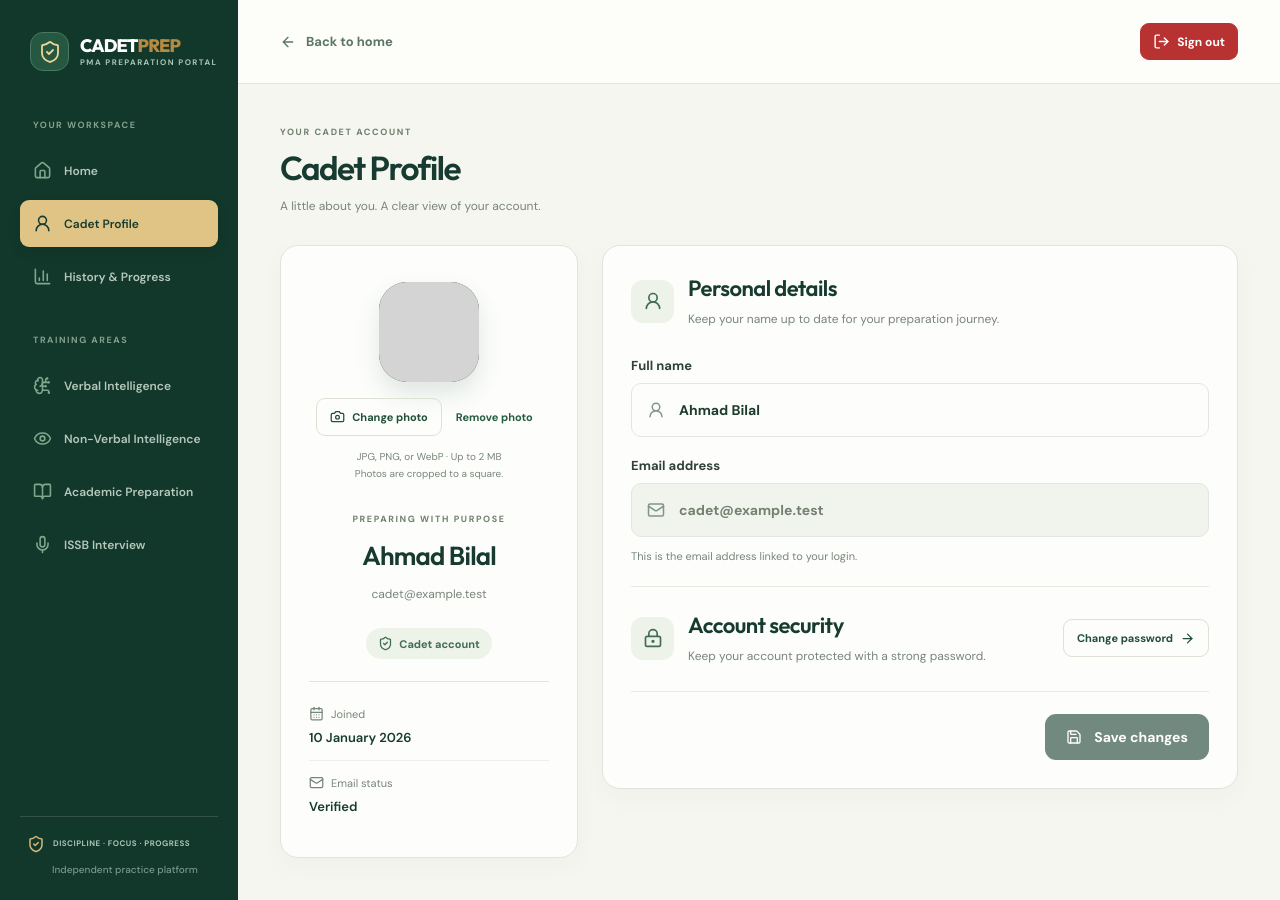
removing a photo restores the initials avatar
The image size is (1280, 900).
Click the button "Remove photo": (494, 417) x1=447 y1=401 x2=542 y2=433
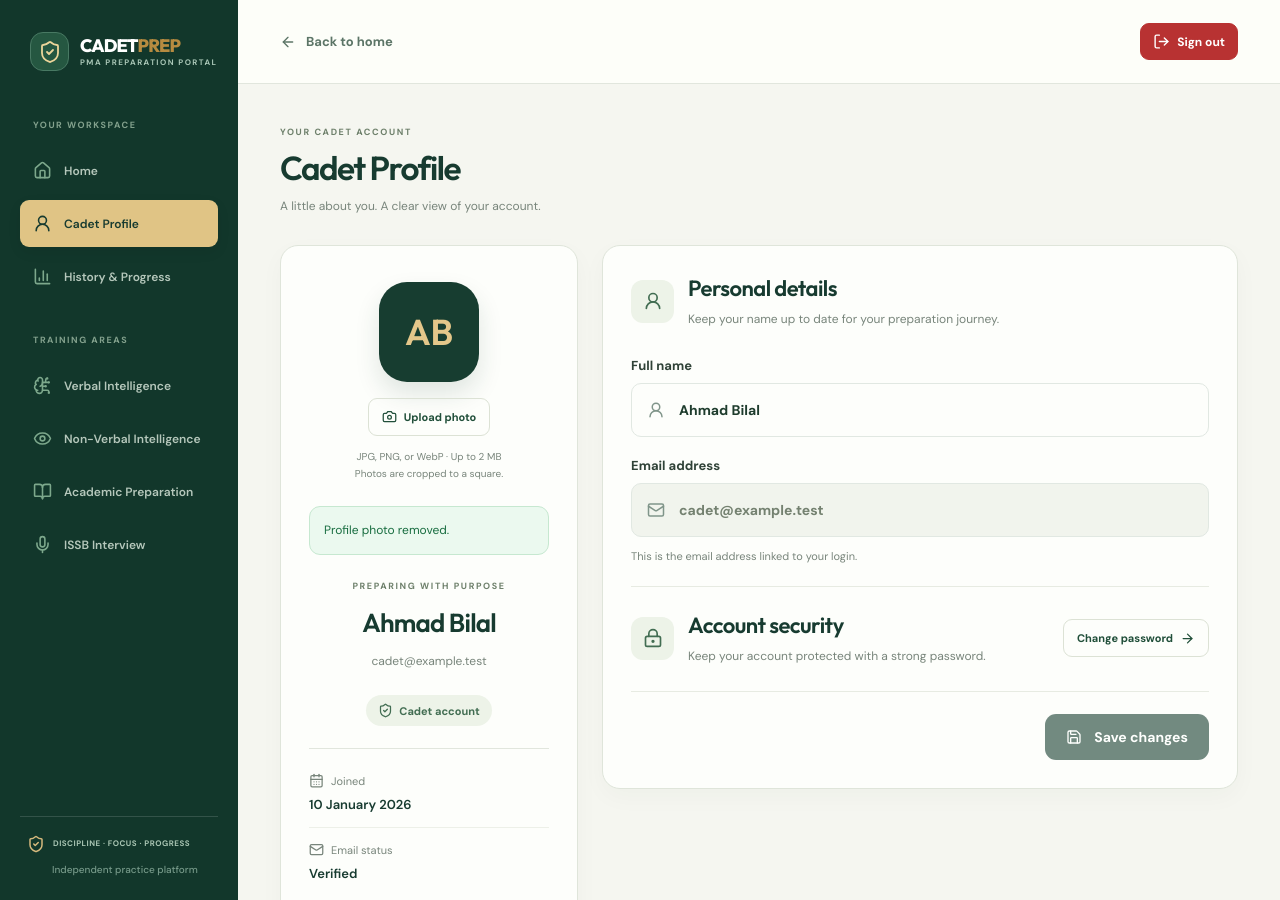
Expected: the text "Profile photo removed." is shown, x1=309 y1=506 x2=549 y2=555
Expected: the picture is gone
Expected: the element showing "AB" is shown, x1=379 y1=282 x2=479 y2=382
